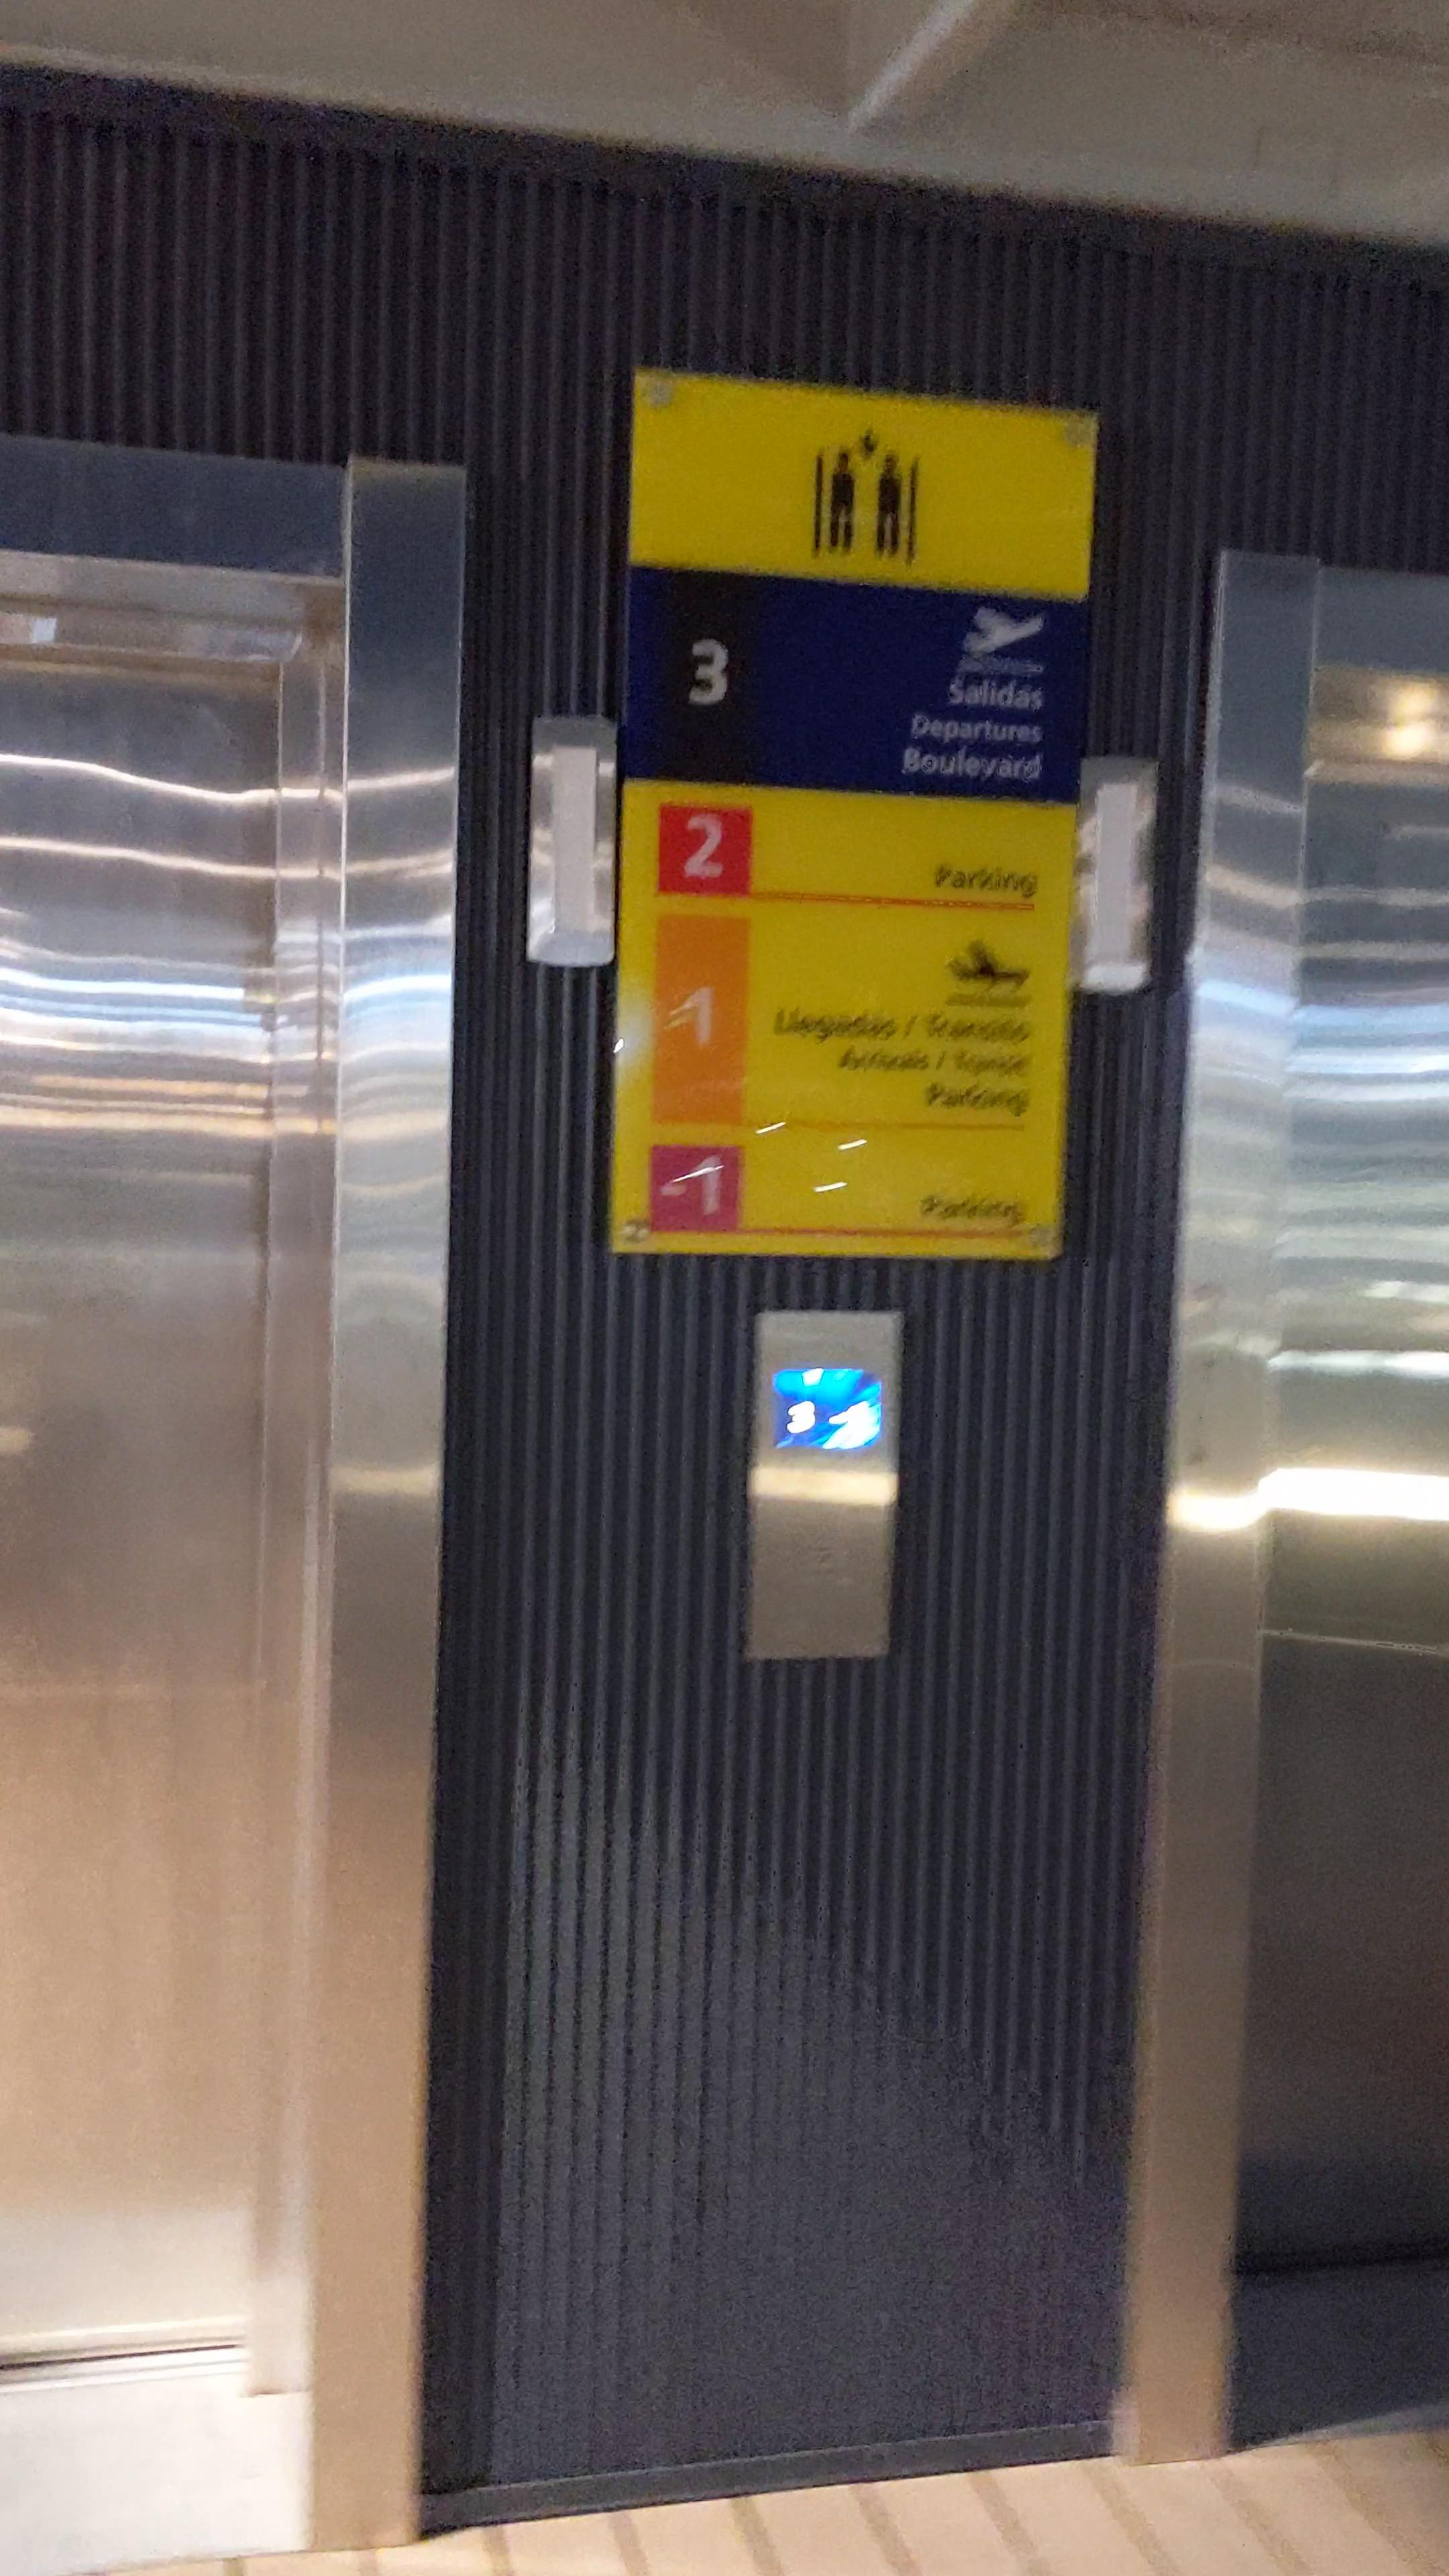airplane symbol: (957, 607, 1049, 656), (947, 941, 1030, 993)
